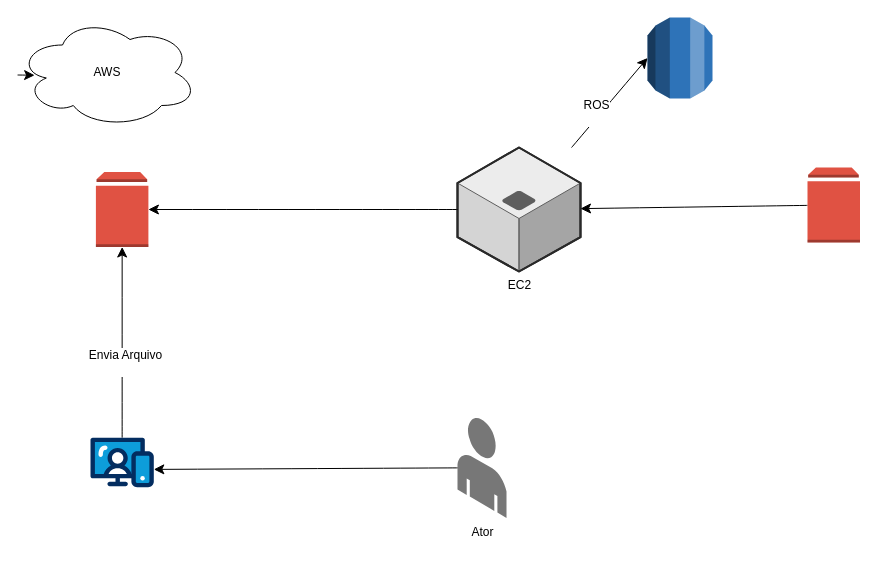
This 878x571 diagram has some shape labels left out. The box of each missing label's shape, as (x1, y1, x2, y2) in pixels:
D- EBS: (95, 171, 148, 247)
E - EBS: (806, 166, 860, 242)
